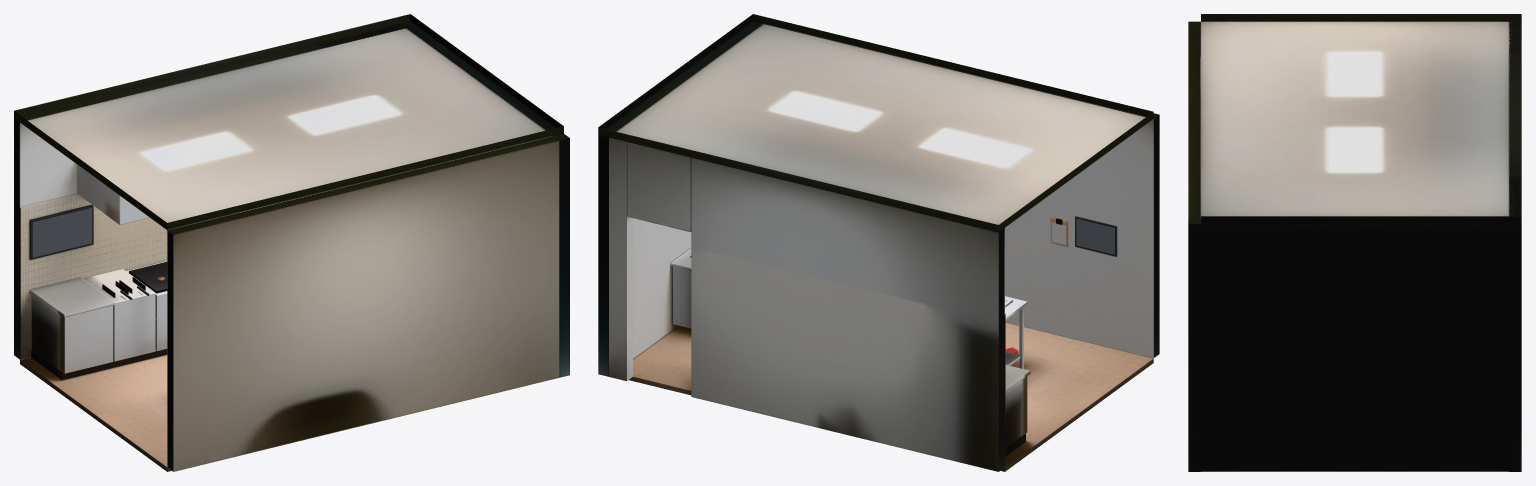
Rendered from world-ki.glb.
3 views of the same model, side by side, from view 1: azimuth 30°, elevation 25°; view 2: azimuth 150°, elevation 25°; view 3: azimuth 270°, elevation 25° (orthographic). The views are drawn at different scales.
Parts seen in each view (by area): view 1: BK_ki_room, BK_ki_line, SM_Screen_Kds; view 2: BK_ki_room, BK_ki_line, SM_Screen_Safety; view 3: BK_ki_room.
Boxes of the visible parts, x1,y1,x2,y2 form: BK_ki_room: (14, 14, 569, 471); BK_ki_line: (29, 165, 167, 380); SM_Screen_Kds: (32, 208, 91, 257); BK_ki_room: (598, 14, 1159, 471); BK_ki_line: (670, 216, 1116, 455); SM_Screen_Safety: (1076, 218, 1114, 254); BK_ki_room: (1188, 14, 1521, 471).
Size of the model in its own units: 5.6 by 3.36 by 3.9.
6 materials, 3 textured.
